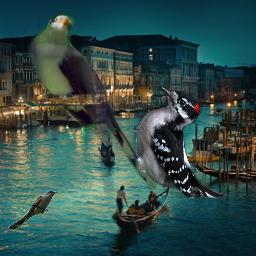Cuckoo: (28, 13, 166, 192), (8, 190, 58, 229)
Woodpecker: (133, 86, 227, 198)
